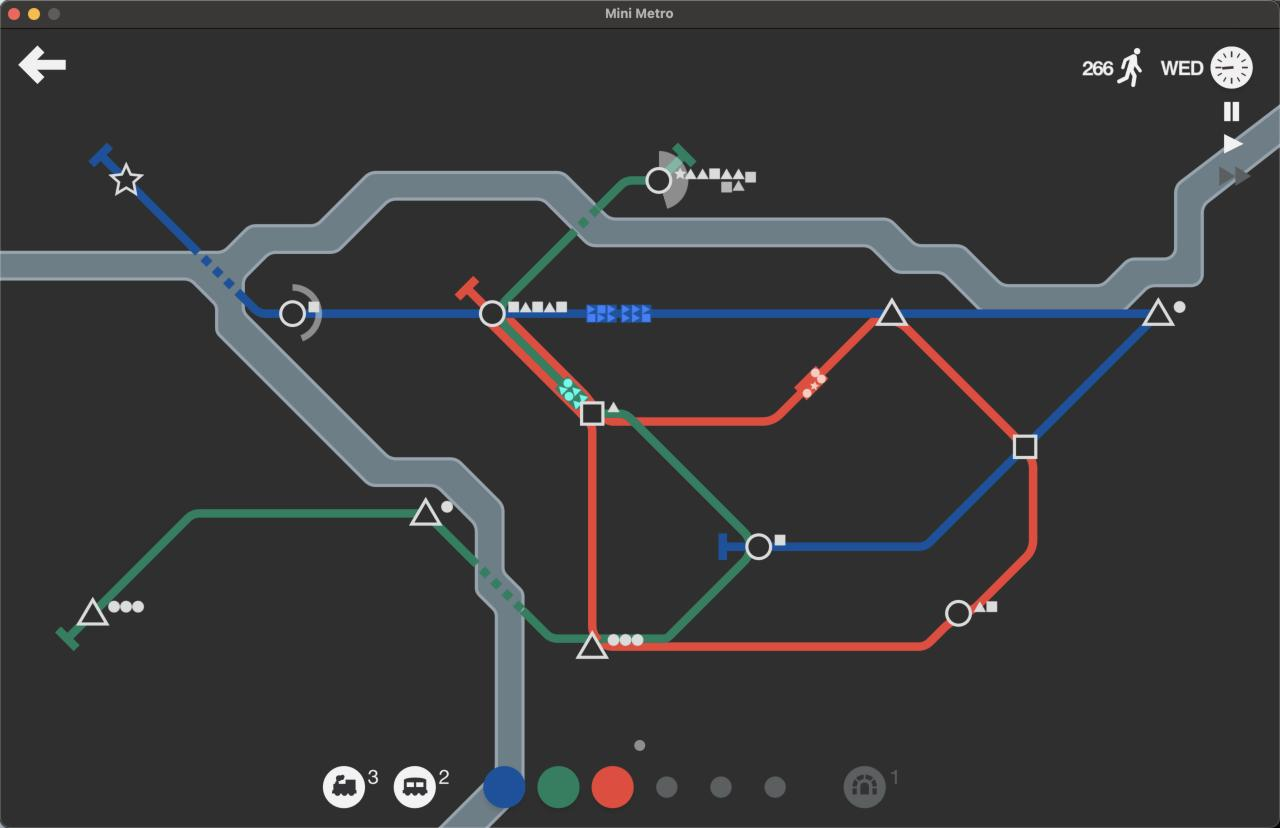CIRCLE: (645, 166, 674, 195), (478, 299, 507, 328), (279, 299, 307, 328), (745, 532, 773, 561), (945, 599, 972, 627)
SQUARE: (1013, 433, 1039, 460), (580, 400, 605, 426)
STAR: (107, 162, 144, 196)
TRIANGLE: (75, 595, 111, 627), (575, 629, 608, 660), (1141, 297, 1176, 326), (410, 496, 443, 526), (876, 296, 908, 326)
